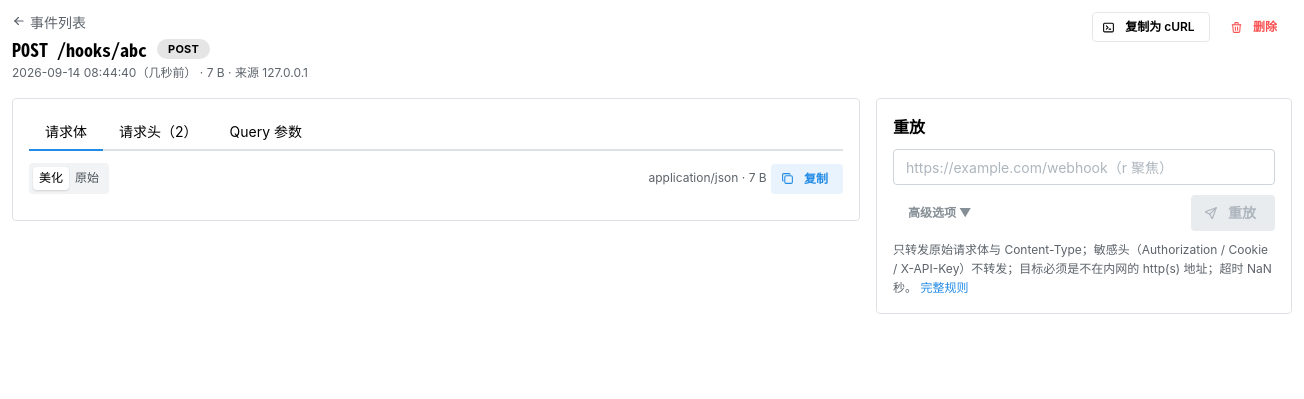
Test: EventScreen sensitive headers › says why the reveal switch is off when the server has no access control
Expected: the heading "POST /hooks/abc" is shown, [12,36,147,62]
Click the tab "请求头（2）" at (158, 133), box [103,115,214,151]
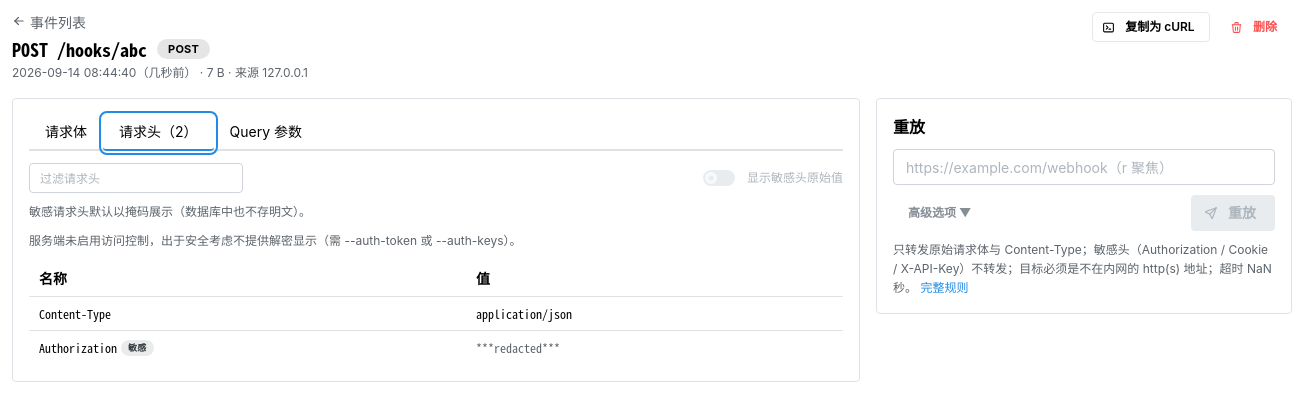
Now the switch is disabled, box [703,170,843,186]
Now the text "服务端未启用访问控制，出于安全考虑不提供解密显示（需 --auth-token 或 --auth-keys）。" is shown, box [29,233,522,248]
